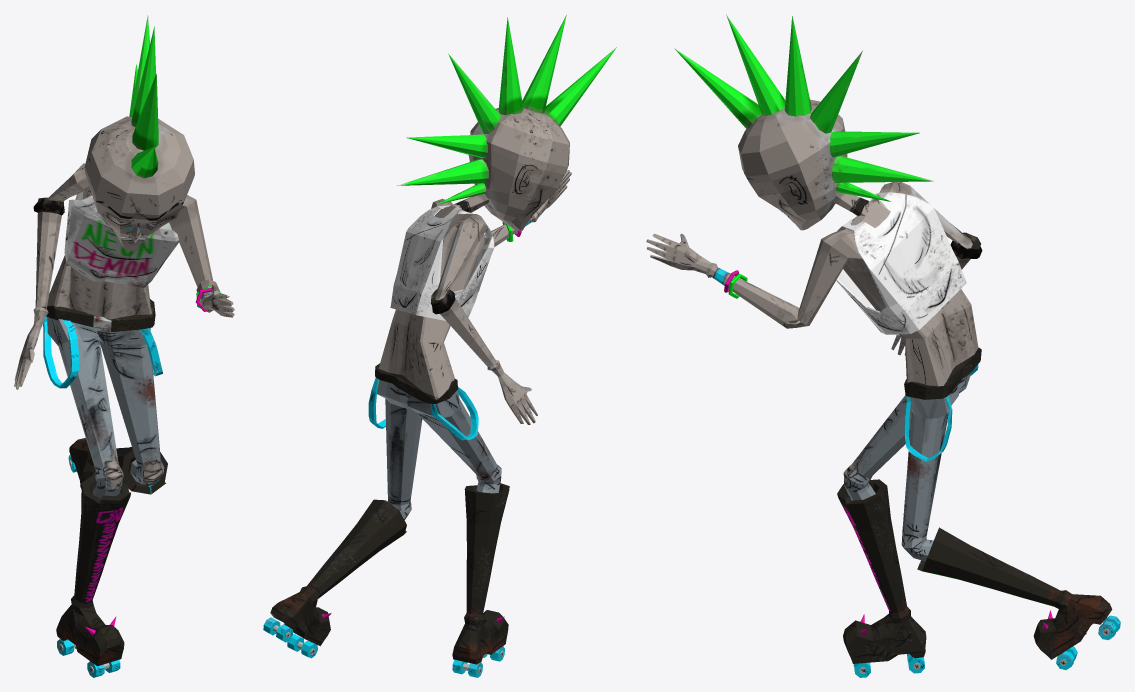
The model's file is punkAnimation_000026.obj.
The picture shows the model from 3 angles, left to right: view 1: azimuth 30°, elevation 25°; view 2: azimuth 150°, elevation 25°; view 3: azimuth 270°, elevation 25°; orthographic projection. The views are drawn at different scales.
Visible parts, largest first — view 1: Cube.004_Cube.003; view 2: Cube.004_Cube.003; view 3: Cube.004_Cube.003.
Boxes of the visible parts, <box> form: Cube.004_Cube.003: <box>14,15,234,677</box>; Cube.004_Cube.003: <box>263,15,616,677</box>; Cube.004_Cube.003: <box>646,14,1120,677</box>.
Bounding box in the file's own units: 2 × 6.79 × 4.39.
